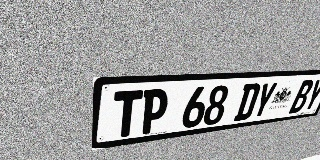6: (180, 86, 211, 129)
8: (201, 85, 231, 126)
B: (288, 80, 315, 114)
D: (233, 83, 262, 121)
P: (139, 88, 170, 135)
T: (112, 90, 143, 139)
Y: (250, 82, 278, 119), (301, 79, 320, 112)
